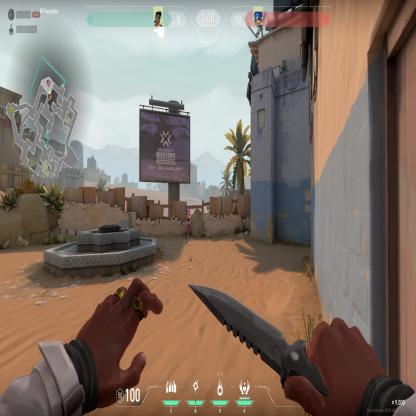enemy: (184, 206, 192, 245)
